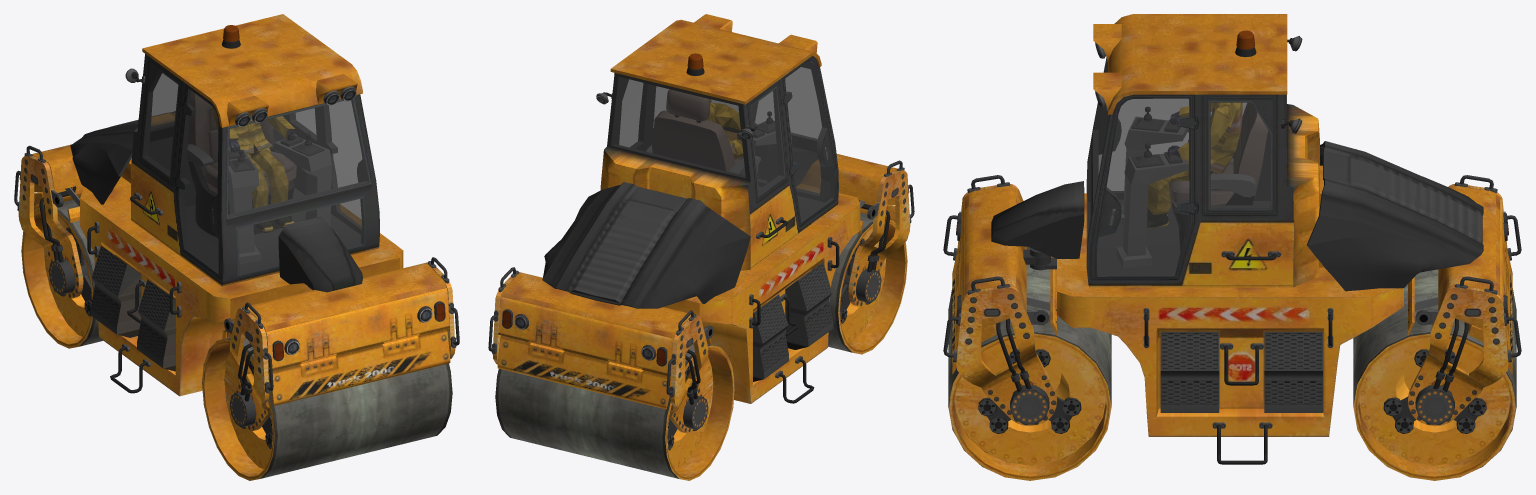
Rendered from roller.glb.
3 views of the same model, side by side, from view 1: azimuth 30°, elevation 25°; view 2: azimuth 150°, elevation 25°; view 3: azimuth 270°, elevation 25° (orthographic). The views are drawn at different scales.
Parts seen in each view (by area): view 1: Body_1_Textures 1_0, Body_2_Textures 2_0, Body_1_Glass_0, Wheel_F_Textures 2_0, Body_1_Textures 4_0, Body_3_Textures 2_0, Wheel_B_Textures 2_0, Body_1_Textures. Engineer_0; view 2: Body_1_Textures 1_0, Body_3_Textures 2_0, Body_1_Glass_0, Wheel_B_Textures 2_0, Body_1_Textures 4_0, Body_2_Textures 2_0, Wheel_F_Textures 2_0, Body_1_Textures. Engineer_0; view 3: Body_1_Textures 1_0, Body_1_Glass_0, Wheel_B_Textures 2_0, Wheel_F_Textures 2_0, Body_2_Textures 2_0, Body_1_Textures 4_0, Body_3_Textures 2_0, Body_1_Textures. Engineer_0.
Part boxes in pixels (left/top/right/bottom): Body_1_Textures 1_0: left=70, top=14, right=403, bottom=396; Body_2_Textures 2_0: left=224, top=257, right=459, bottom=430; Body_1_Glass_0: left=143, top=71, right=368, bottom=275; Wheel_F_Textures 2_0: left=202, top=337, right=452, bottom=480; Body_1_Textures 4_0: left=143, top=71, right=368, bottom=275; Body_3_Textures 2_0: left=14, top=144, right=89, bottom=298; Wheel_B_Textures 2_0: left=21, top=198, right=103, bottom=348; Body_1_Textures. Engineer_0: left=212, top=106, right=295, bottom=232; Body_1_Textures 1_0: left=542, top=14, right=860, bottom=403; Body_3_Textures 2_0: left=488, top=267, right=713, bottom=432; Body_1_Glass_0: left=611, top=61, right=834, bottom=222; Wheel_B_Textures 2_0: left=495, top=343, right=734, bottom=480; Body_1_Textures 4_0: left=607, top=61, right=834, bottom=222; Body_2_Textures 2_0: left=724, top=130, right=914, bottom=306; Wheel_F_Textures 2_0: left=828, top=212, right=907, bottom=354; Body_1_Textures. Engineer_0: left=706, top=99, right=757, bottom=159; Body_1_Textures 1_0: left=991, top=14, right=1483, bottom=464; Body_1_Glass_0: left=1086, top=60, right=1286, bottom=276; Wheel_B_Textures 2_0: left=1353, top=269, right=1516, bottom=480; Wheel_F_Textures 2_0: left=948, top=264, right=1111, bottom=480; Body_2_Textures 2_0: left=943, top=175, right=1056, bottom=425; Body_1_Textures 4_0: left=1086, top=60, right=1286, bottom=276; Body_3_Textures 2_0: left=1408, top=175, right=1521, bottom=426; Body_1_Textures. Engineer_0: left=1147, top=102, right=1242, bottom=228.
Bounding box in the file's own units: 0.5405 × 0.8117 × 1.07.
Materials: 5 (4 with a texture image).
